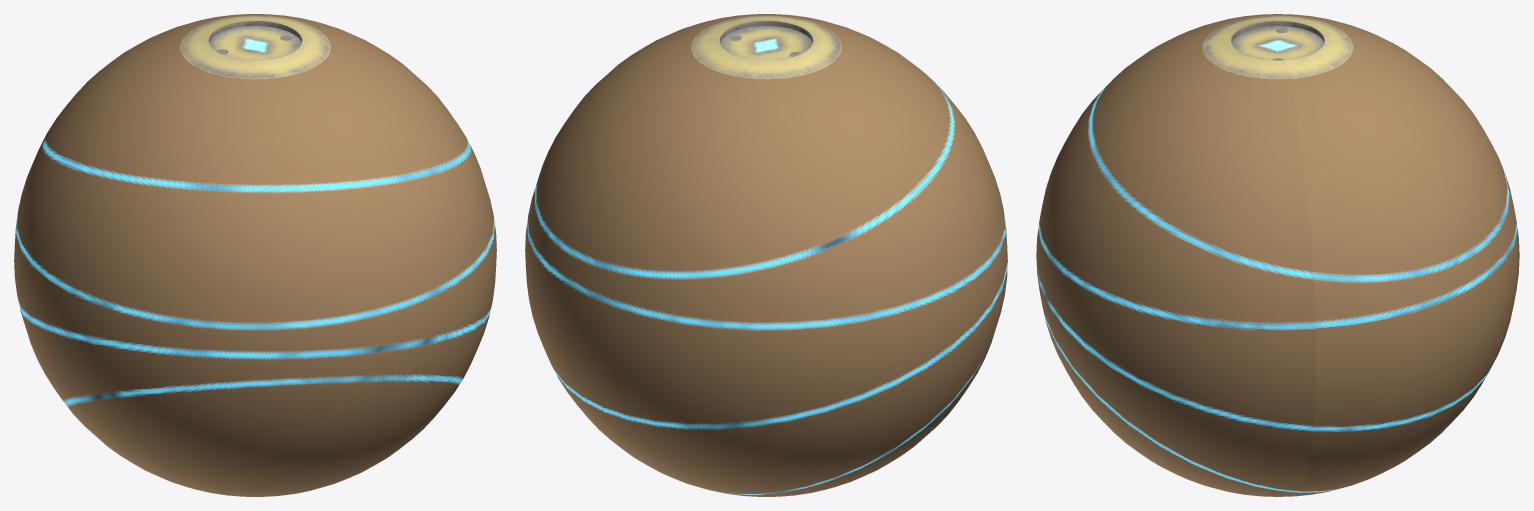
The model's file is time_orb.glb.
The picture shows the model from 3 angles, left to right: view 1: azimuth 30°, elevation 25°; view 2: azimuth 150°, elevation 25°; view 3: azimuth 270°, elevation 25°; orthographic projection.
Visible parts, largest first — view 1: apple_low; view 2: apple_low; view 3: apple_low.
Boxes of the visible parts, x1,y1,x2,y2 form: apple_low: (14,14,496,496); apple_low: (525,14,1007,496); apple_low: (1036,14,1519,496).
Bounding box in the file's own units: 2 × 1.98 × 2.
1 material, 1 textured.
